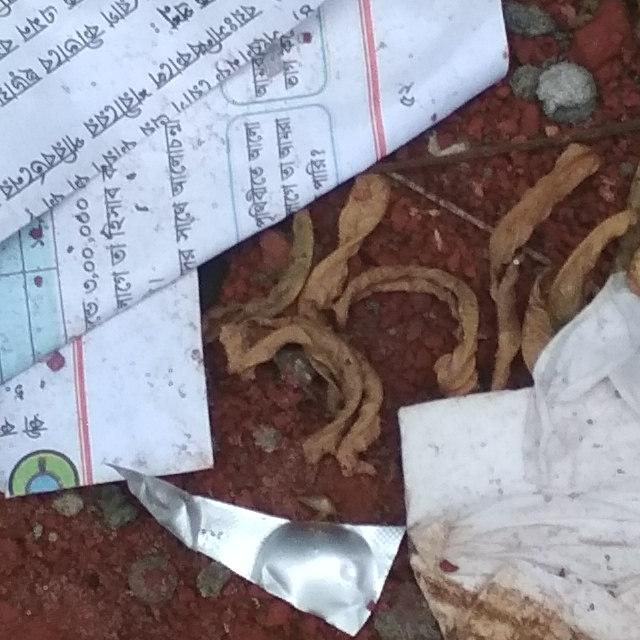paper: (0, 0, 526, 519), (375, 16, 640, 640)
